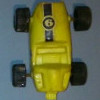amarillo_norte: (14, 2, 92, 99)
